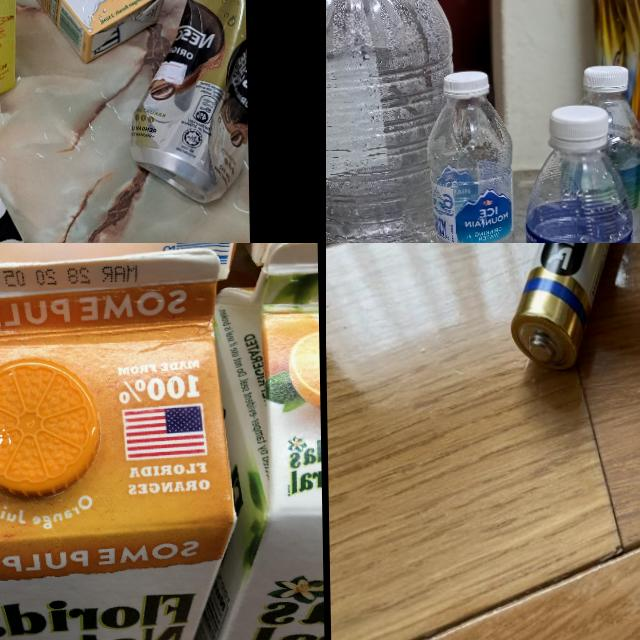bateria: (500, 243, 637, 371)
caixinha: (0, 244, 243, 640), (161, 243, 326, 640), (0, 0, 167, 65)
garrafa plástica: (326, 0, 452, 243), (425, 98, 512, 243), (560, 97, 640, 243), (530, 152, 634, 243)
lata: (124, 0, 249, 209)
tampa plástica: (0, 354, 102, 504), (546, 106, 606, 154), (579, 65, 629, 96), (442, 68, 490, 100)
